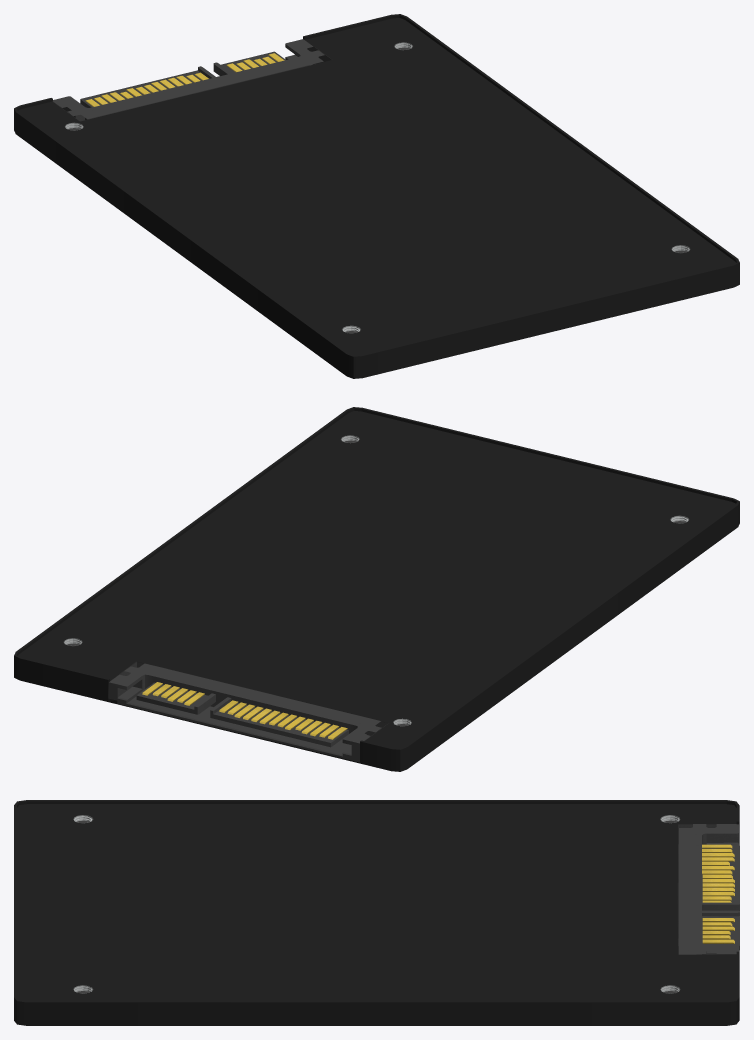
The picture shows the model from 3 angles, top to bottom: view 1: azimuth 30°, elevation 25°; view 2: azimuth 150°, elevation 25°; view 3: azimuth 270°, elevation 25°; orthographic projection. The views are drawn at different scales.
Parts seen in each view (by area): view 1: Plane003__0, Box047__0, ssd_lp; view 2: Plane003__0, Box047__0, ssd_lp; view 3: Plane003__0, Box047__0, ssd_lp.
Boxes of the visible parts, bbox=[...] form: Plane003__0: bbox=[18, 18, 735, 355]; Box047__0: bbox=[14, 14, 739, 378]; ssd_lp: bbox=[53, 39, 324, 121]; Plane003__0: bbox=[18, 411, 735, 748]; Box047__0: bbox=[14, 407, 739, 771]; ssd_lp: bbox=[109, 663, 381, 762]; Plane003__0: bbox=[17, 804, 736, 1001]; Box047__0: bbox=[14, 800, 739, 1025]; ssd_lp: bbox=[679, 824, 739, 954].
Bounding box in the file's own units: 1.7 × 0.0922 × 2.58.
1 material, 1 textured.
